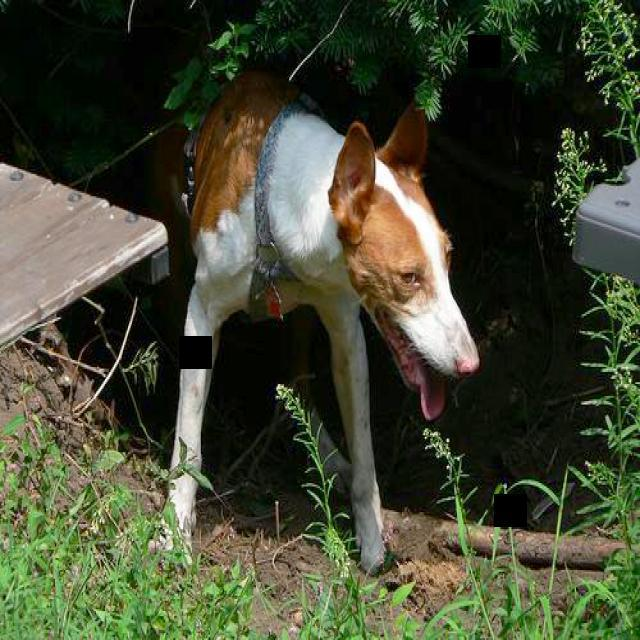adult_dog: (149, 68, 488, 576)
